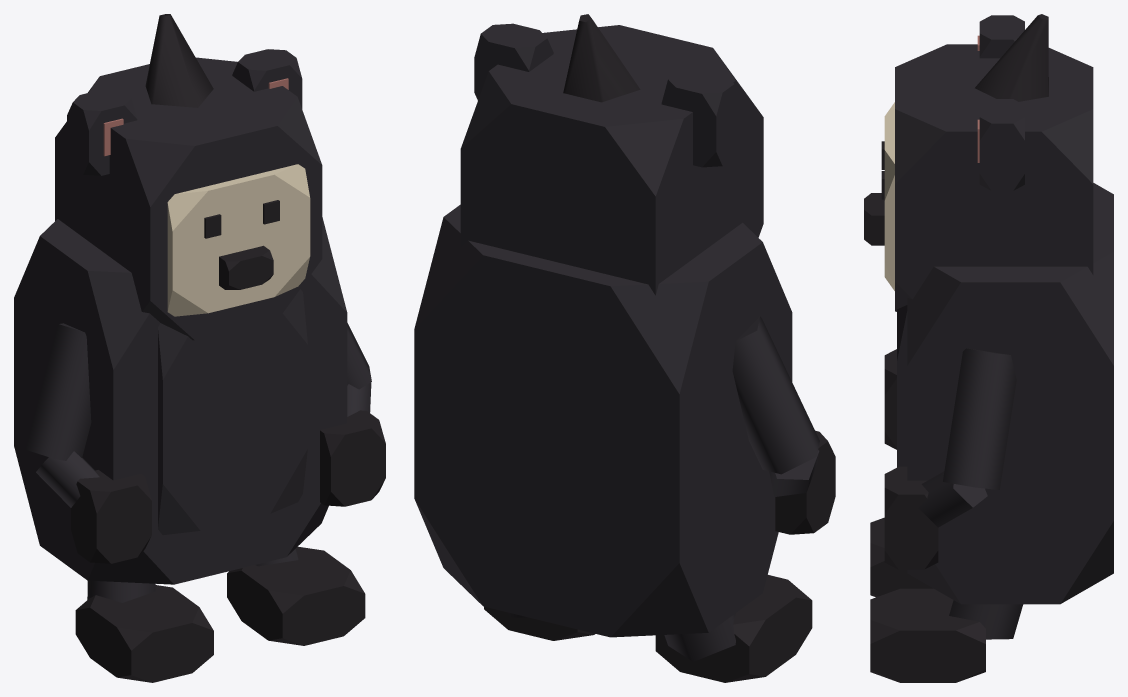
The model's file is original-macaque.glb.
3 renders of one model, left to right at view 1: azimuth 30°, elevation 25°; view 2: azimuth 150°, elevation 25°; view 3: azimuth 270°, elevation 25°, orthographic. The views are drawn at different scales.
Visible parts, largest first — view 1: macaque; view 2: macaque; view 3: macaque.
Part boxes in pixels (x1=…): macaque: x1=14, y1=14, x2=385, y2=682; macaque: x1=414, y1=14, x2=835, y2=682; macaque: x1=864, y1=14, x2=1113, y2=682.
Size of the model in its own units: 0.9975 by 1.62 by 0.6051.
